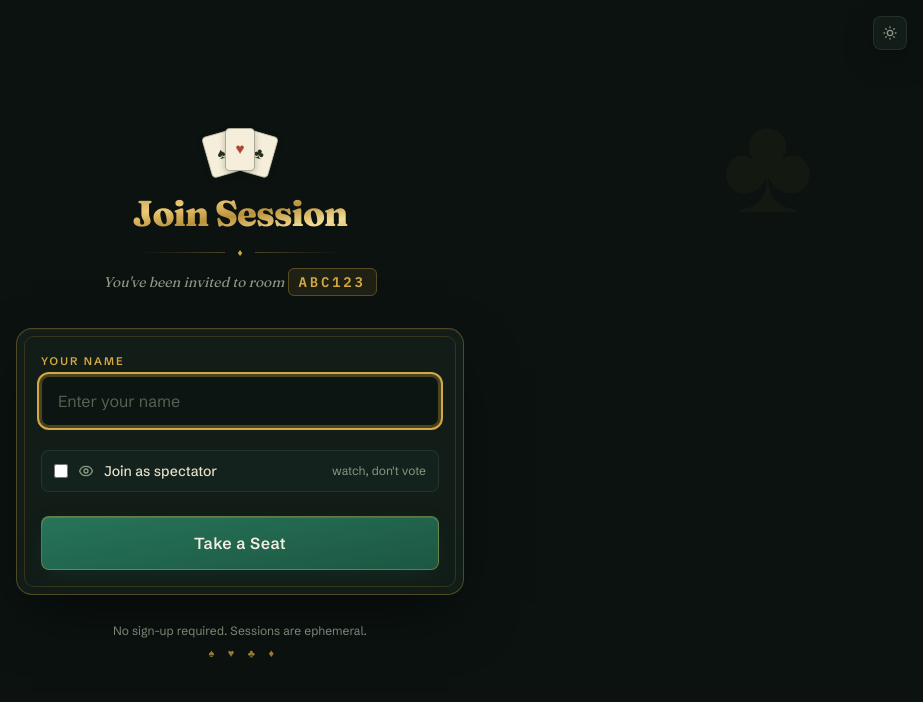
Test: Join page › shows error on failed join
Type "Charlie" into the field labelled "Your Name". click: (240, 400)
box: [41,376,439,426]
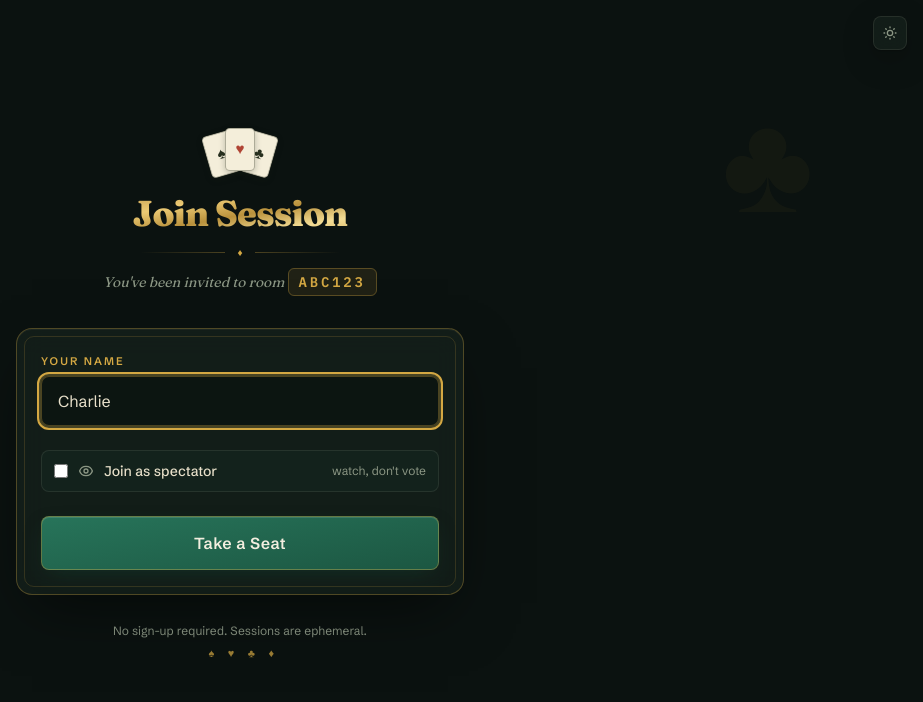
Click the button "Take a Seat". click: (240, 542)
box: [41,516,439,570]
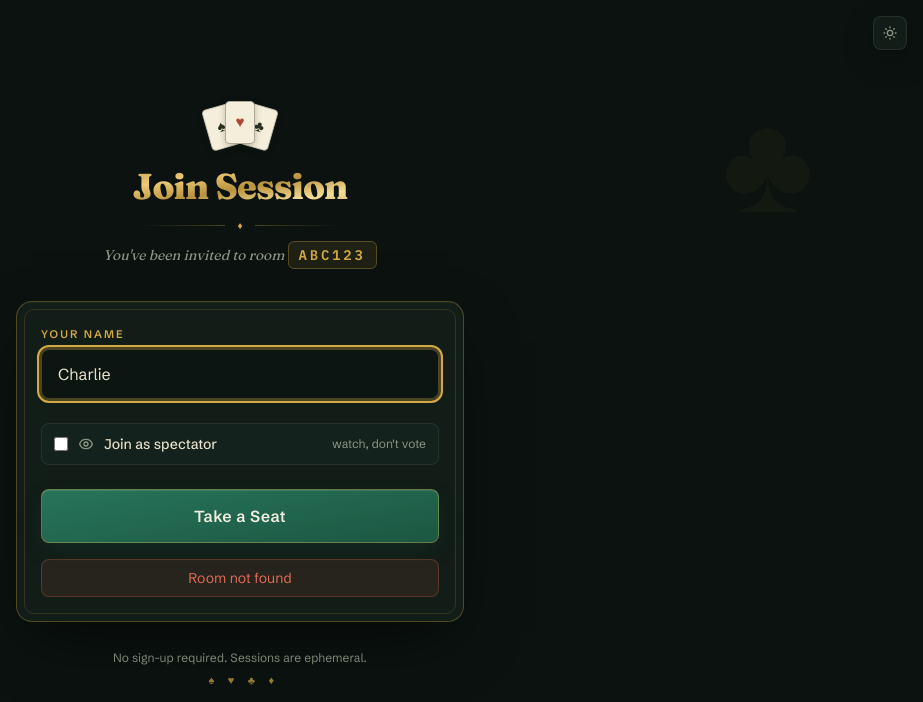
Expected: the text "Room not found" is shown, [188,568,292,586]
